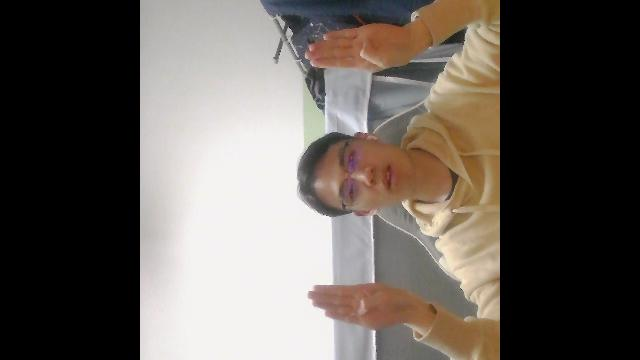four: (304, 20, 412, 70), (306, 279, 412, 328)
